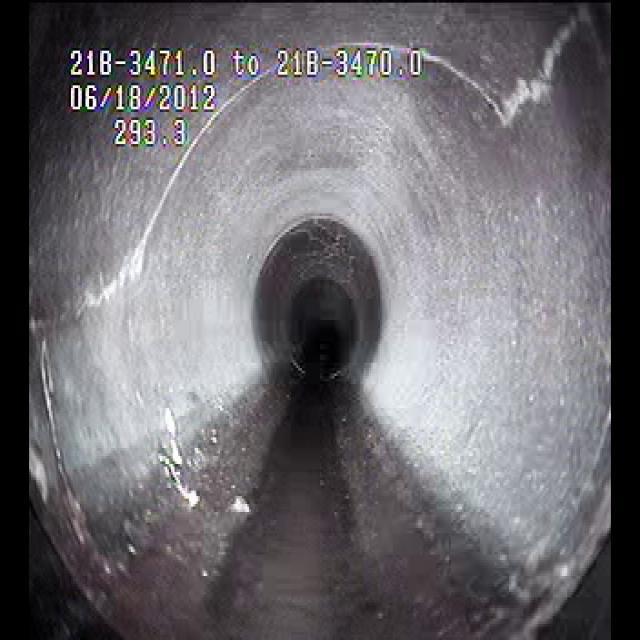Crack: (66, 184, 175, 342)
